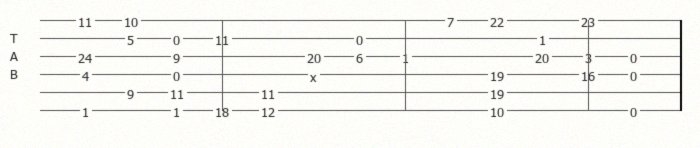0: (173, 68, 184, 81), (173, 32, 184, 45), (356, 32, 367, 45), (630, 68, 641, 81), (630, 104, 641, 117), (630, 50, 641, 63)
1: (82, 104, 93, 117), (173, 104, 184, 117), (402, 50, 413, 63), (539, 32, 550, 45)
10: (124, 14, 142, 27), (490, 104, 508, 117)
11: (78, 14, 96, 27), (170, 86, 188, 99), (215, 32, 233, 45), (261, 86, 279, 99)
12: (261, 104, 279, 117)
16: (581, 68, 599, 81)
18: (215, 104, 233, 117)
19: (490, 86, 508, 99), (490, 68, 508, 81)
20: (307, 50, 325, 63), (535, 50, 553, 63)
22: (490, 14, 508, 27)
23: (581, 14, 599, 27)
24: (78, 50, 96, 63)
3: (585, 50, 596, 63)
4: (82, 68, 93, 81)
5: (127, 32, 138, 45)
6: (356, 50, 367, 63)
7: (447, 14, 458, 27)
9: (127, 86, 138, 99), (173, 50, 184, 63)
x: (310, 69, 321, 80)
